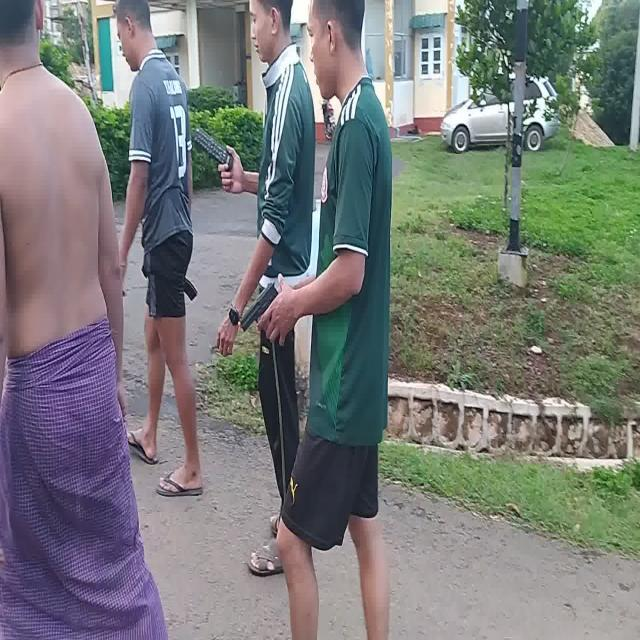gun: (239, 283, 278, 332)
